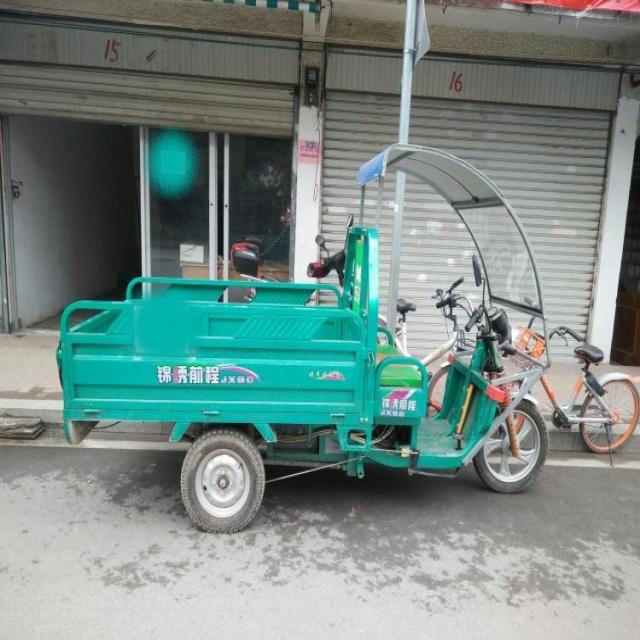bicycle: (502, 297, 637, 467), (376, 275, 465, 415)
motorbike: (230, 212, 352, 302)
pole: (386, 1, 416, 331)
tricycle: (57, 140, 550, 528)
